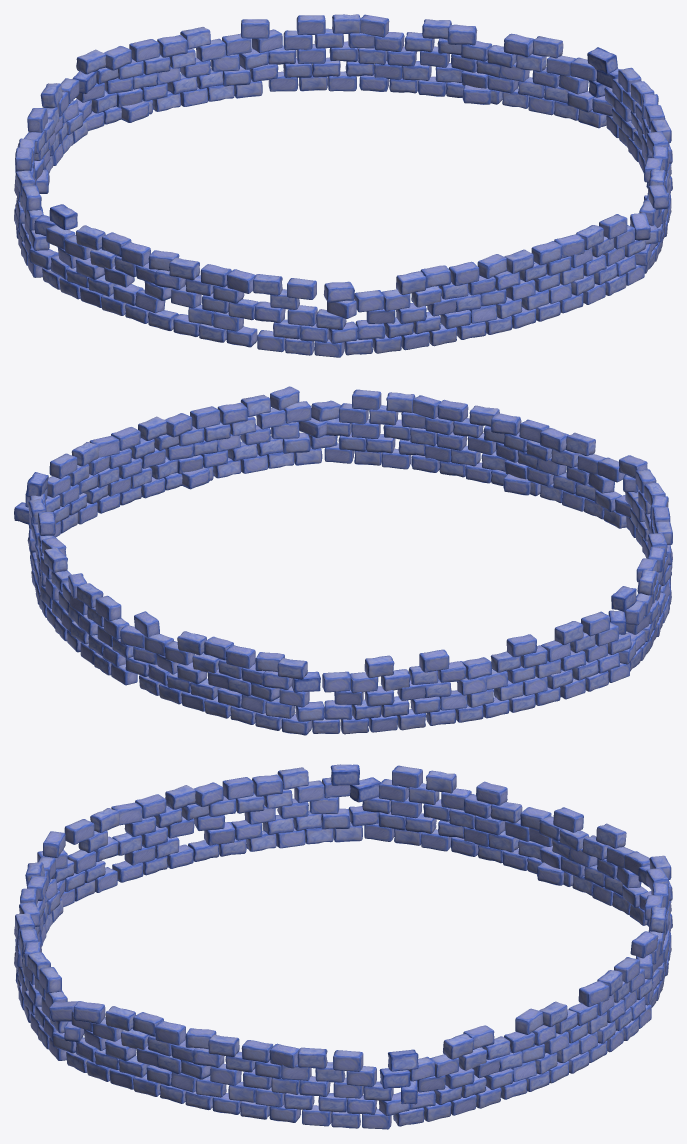
File: wall_01.fbx
The picture shows the model from 3 angles, top to bottom: view 1: azimuth 30°, elevation 25°; view 2: azimuth 150°, elevation 25°; view 3: azimuth 270°, elevation 25°; orthographic projection. The views are drawn at different scales.
Parts seen in each view (by area): view 1: pCube79; view 2: pCube79; view 3: pCube79.
Part boxes in pixels (x1,y1,x2,y2): pCube79: [14, 14, 672, 357]; pCube79: [14, 386, 672, 735]; pCube79: [14, 764, 672, 1129].
Size of the model in its own units: 27.08 by 3.22 by 25.04.
